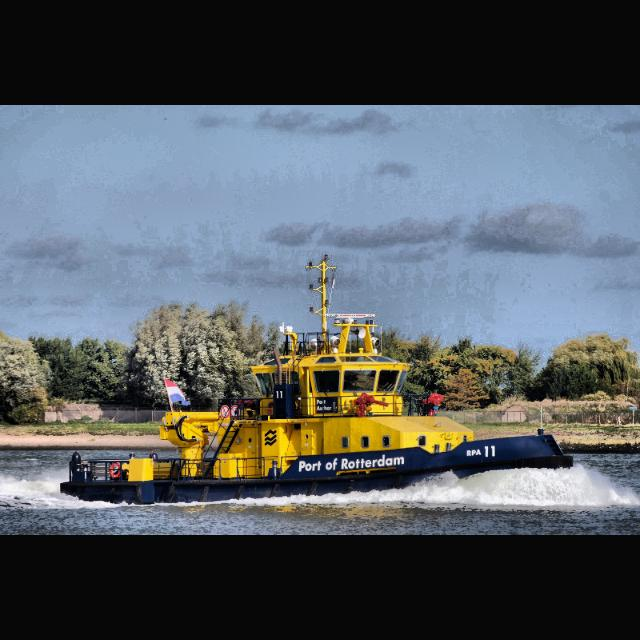patrol_vessel: (57, 251, 580, 507)
